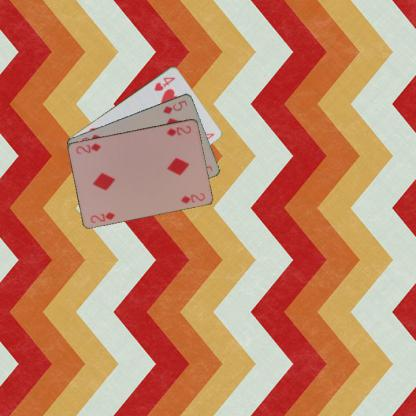2d: (164, 122, 192, 138), (88, 209, 116, 224)
4h: (151, 74, 177, 92)
5d: (160, 98, 189, 115)
